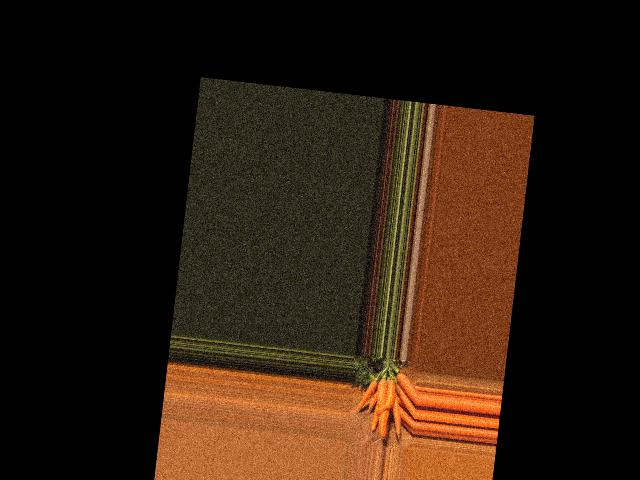carrot: (393, 370, 419, 403)
